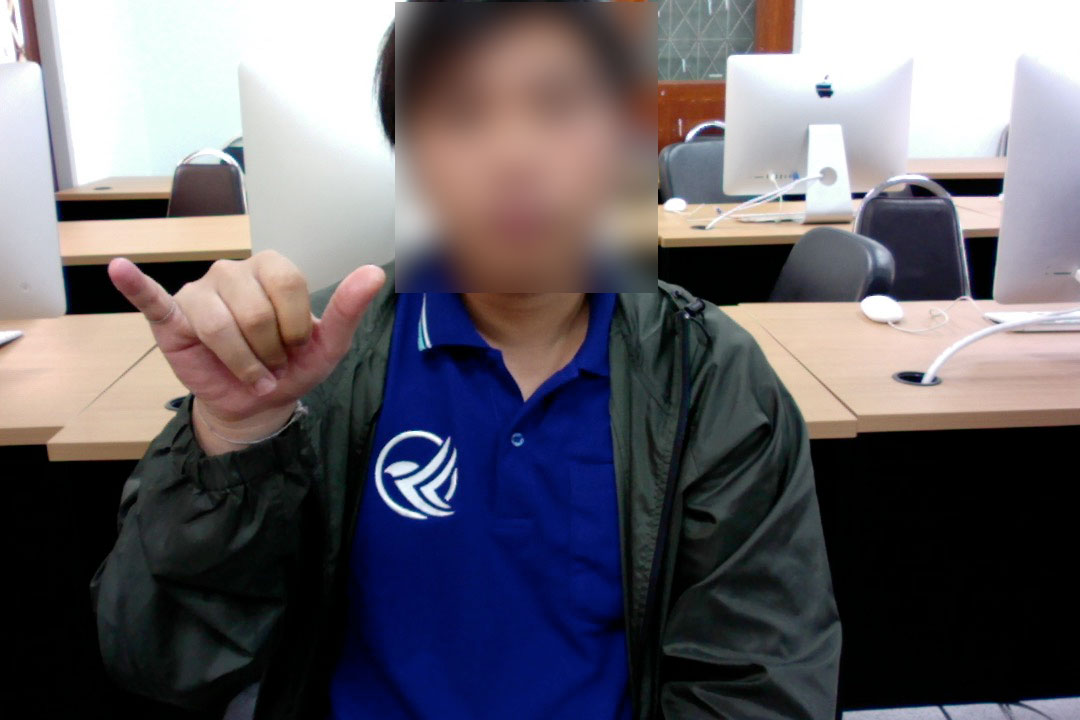yor: (97, 248, 413, 432)
